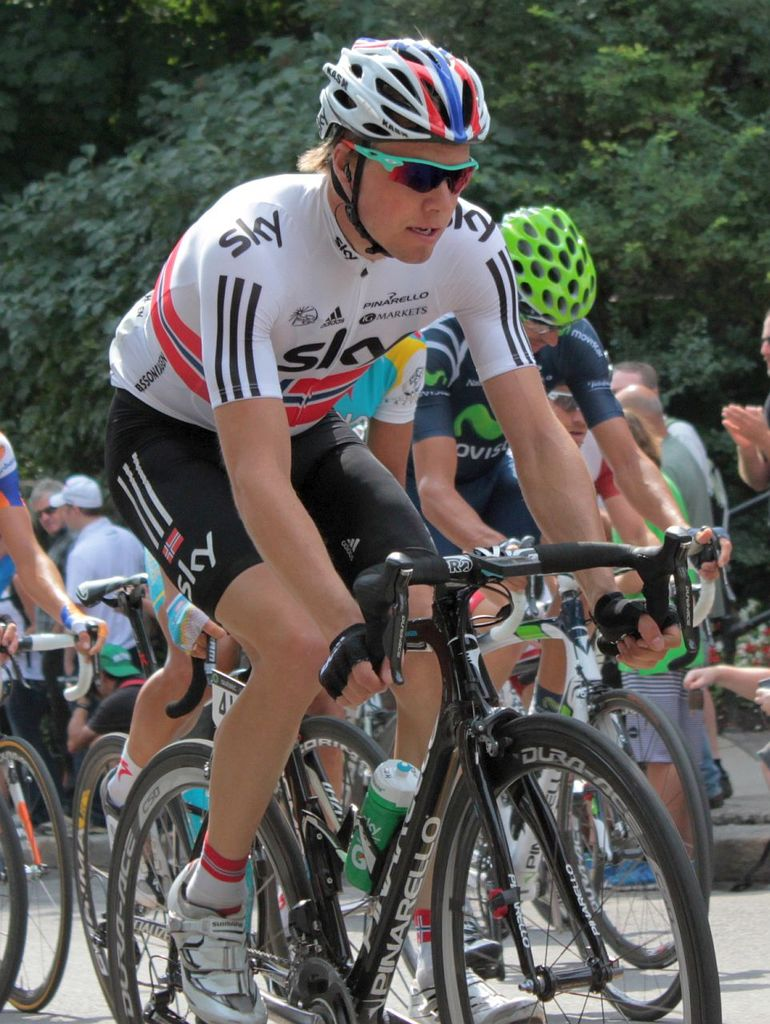Bike: (104, 548, 723, 1014)
